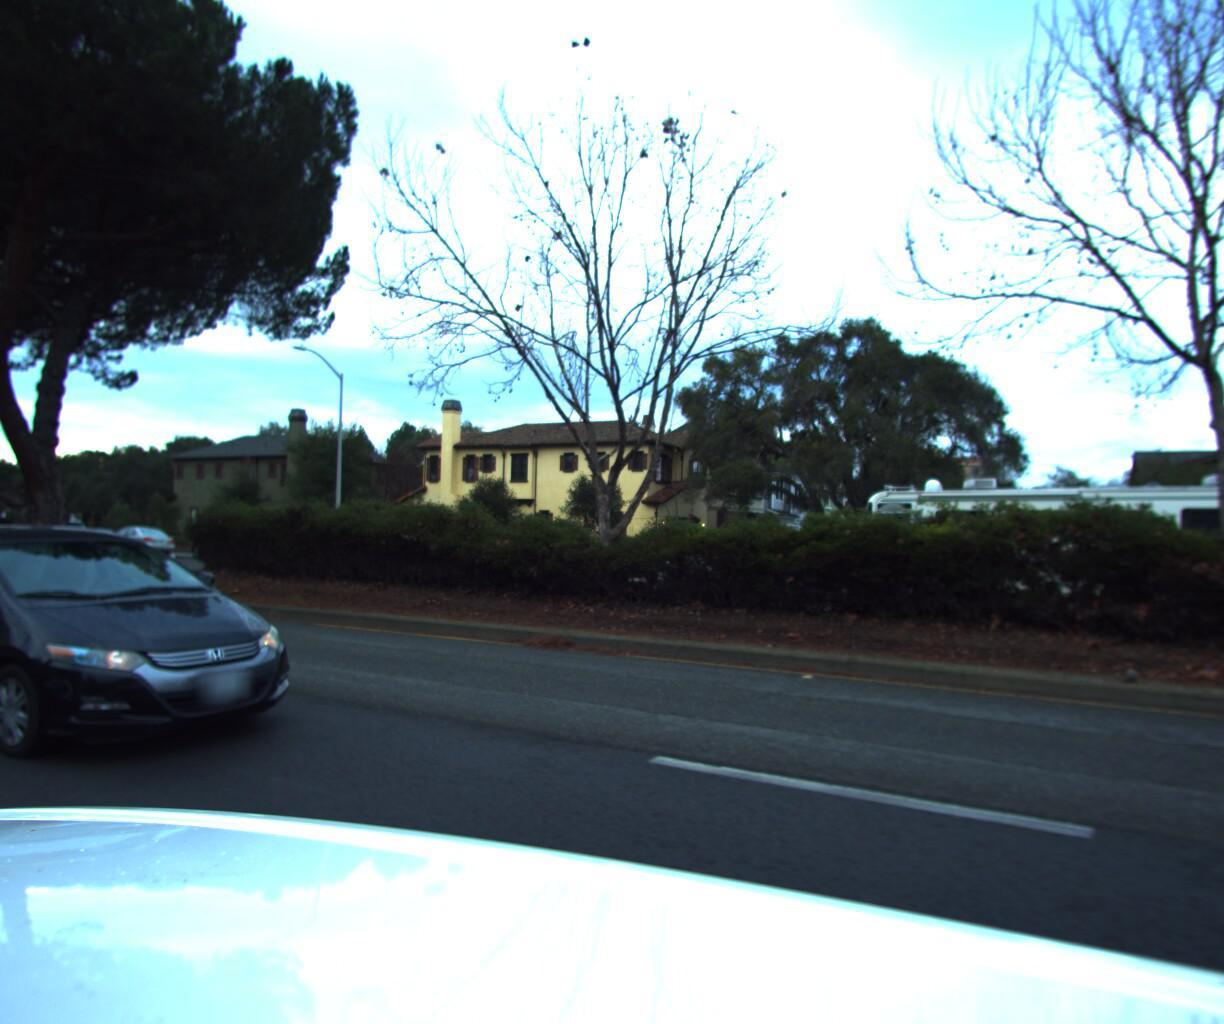car: (0, 518, 330, 792), (0, 513, 98, 553), (93, 518, 178, 555), (43, 518, 132, 549)
other_vehicle: (827, 454, 1224, 624)
